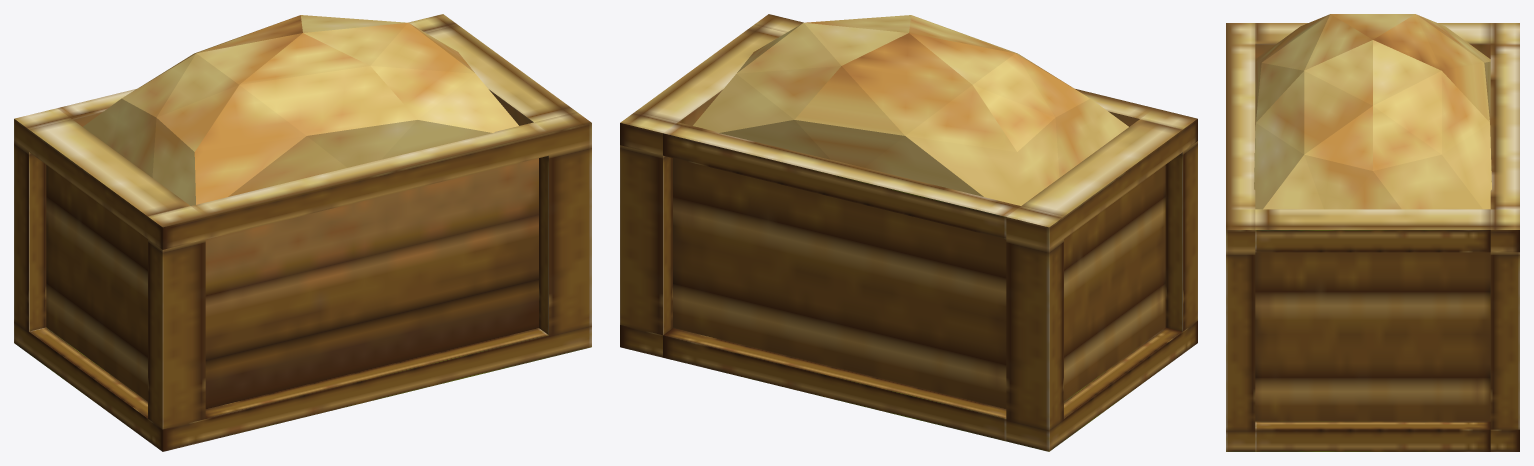
The model's file is Poly_Crate_03.obj.
The picture shows the model from 3 angles, left to right: view 1: azimuth 30°, elevation 25°; view 2: azimuth 150°, elevation 25°; view 3: azimuth 270°, elevation 25°; orthographic projection.
Parts seen in each view (by area): view 1: Cube, Cube.001; view 2: Cube, Cube.001; view 3: Cube, Cube.001.
Part boxes in pixels (x1,y1,x2,y2): Cube: [14, 14, 591, 451]; Cube.001: [83, 15, 518, 205]; Cube: [620, 14, 1197, 451]; Cube.001: [693, 15, 1128, 205]; Cube: [1226, 23, 1519, 451]; Cube.001: [1254, 14, 1491, 209].
Bounding box in the file's own units: 1 × 0.6954 × 0.6.
Materials: 1 (1 with a texture image).
